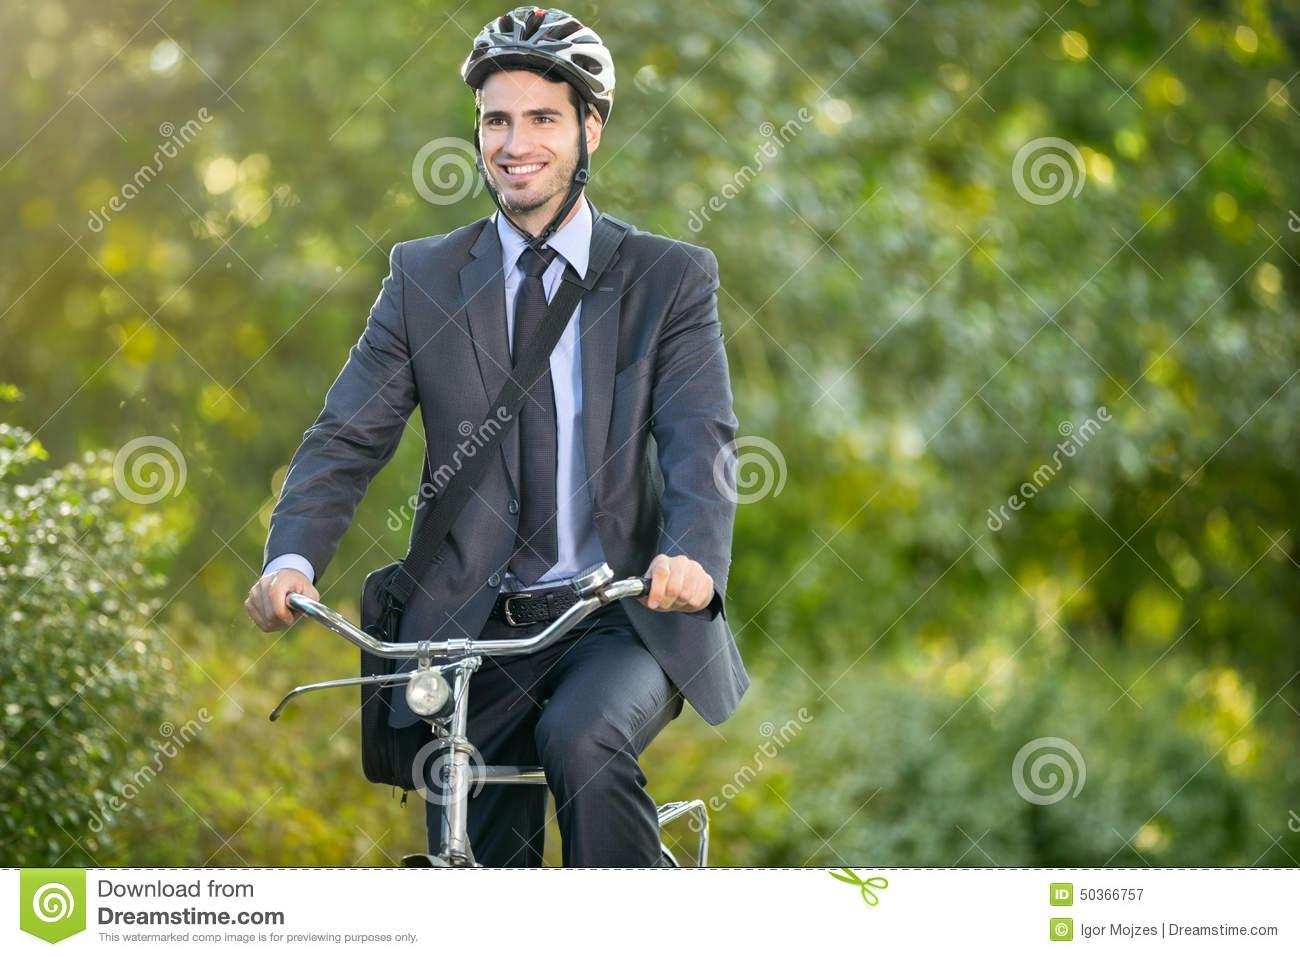Helmet: (478, 0, 615, 239)
